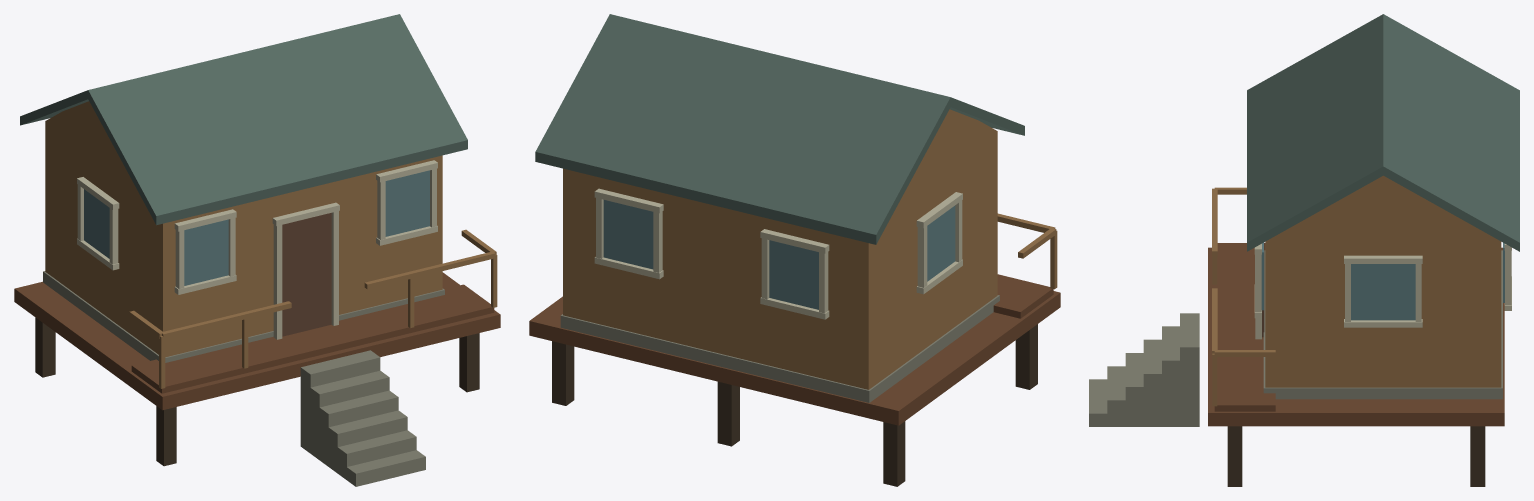
File: Building_Settlement_StiltLakesideHouse_001_LOD1.glb
3 views of the same model, side by side, from view 1: azimuth 30°, elevation 25°; view 2: azimuth 150°, elevation 25°; view 3: azimuth 270°, elevation 25° (orthographic). The views are drawn at different scales.
Visible parts, largest first — view 1: Building_Settlement_StiltLakesideHouse_001_LOD1; view 2: Building_Settlement_StiltLakesideHouse_001_LOD1; view 3: Building_Settlement_StiltLakesideHouse_001_LOD1.
Part boxes in pixels (<box>): Building_Settlement_StiltLakesideHouse_001_LOD1: <box>14,14,500,486</box>; Building_Settlement_StiltLakesideHouse_001_LOD1: <box>529,14,1060,486</box>; Building_Settlement_StiltLakesideHouse_001_LOD1: <box>1089,14,1519,486</box>.
Bounding box in the file's own units: 5.8 × 5.23 × 6.39.
